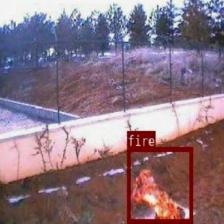fire: (126, 146, 192, 223)
